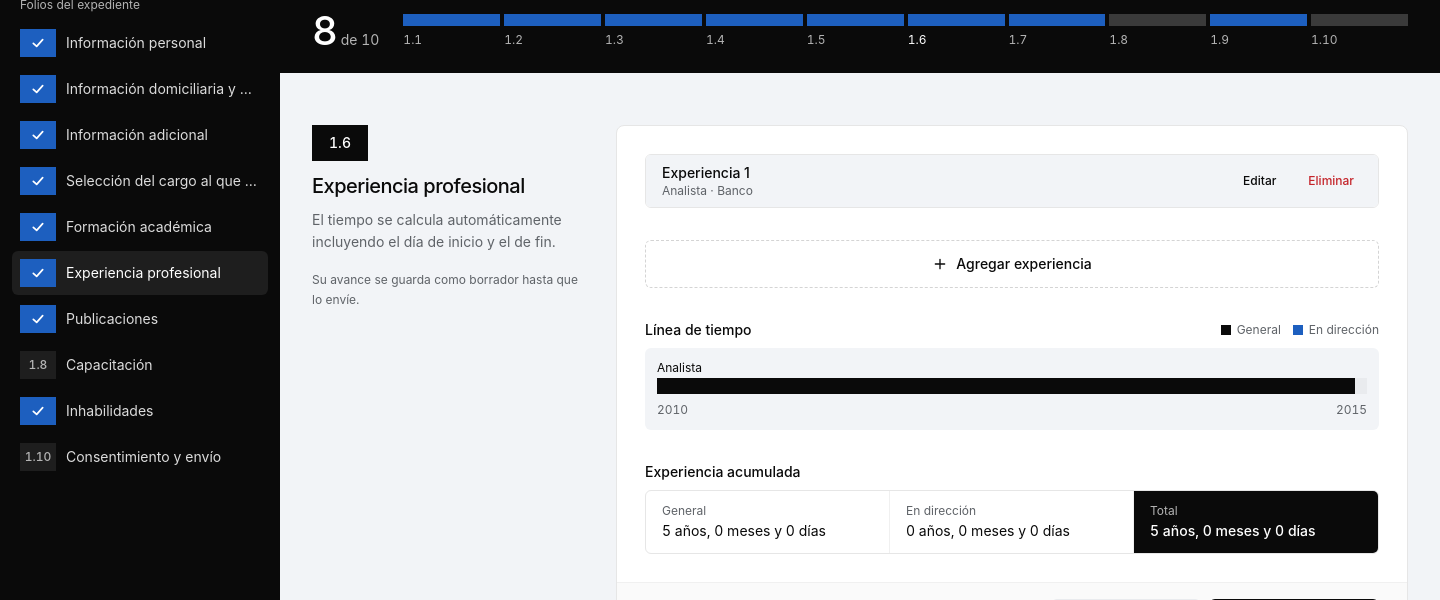
Test: documentos de respaldo › un registro guardado se ve cerrado con Editar y Eliminar, y al editar conserva su PDF
Check: the button with aria-label "Eliminar Experiencia 1" is shown, box [1292,165,1370,197]
Check: the text "Analista · Banco" is shown, box [662,183,753,198]
Click the button with aria-label "Editar Experiencia 1". click: (1260, 181)
box: [1227,165,1292,197]
(page scrolled)
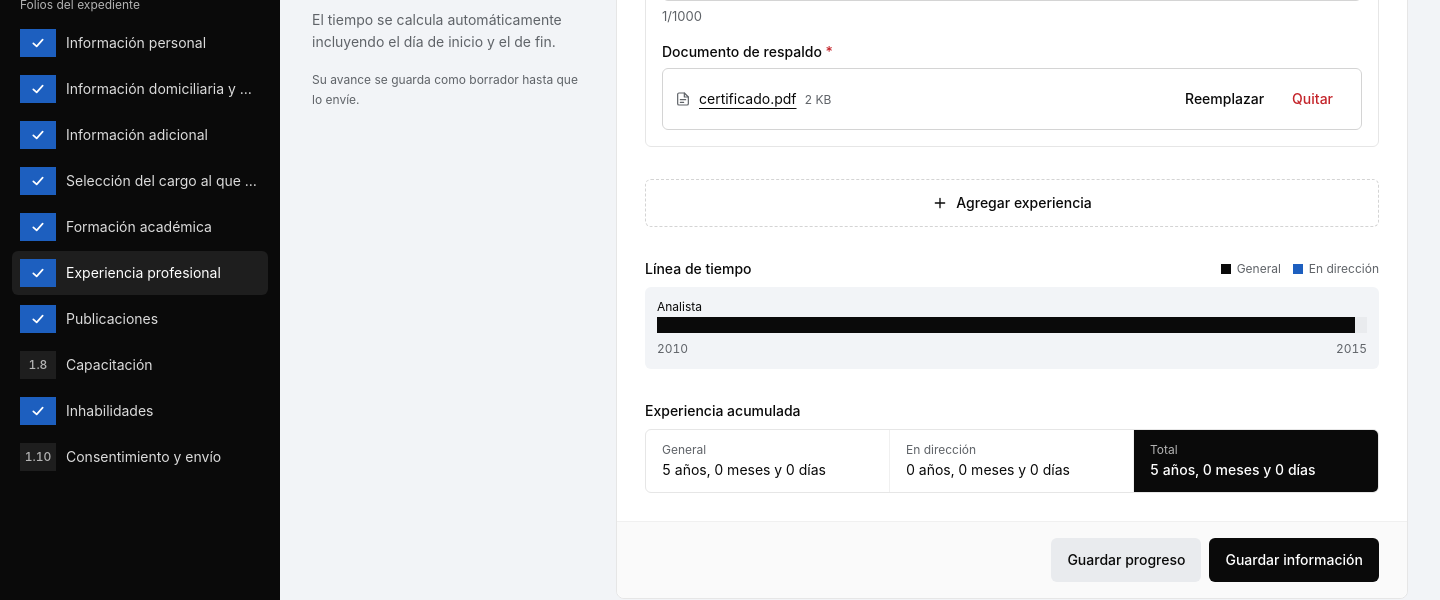
Check: the link "certificado.pdf" is shown, box [699,90,796,107]
Click the button "Guardar progreso". click: (1126, 560)
box: [1051,538,1201,582]
(page scrolled)
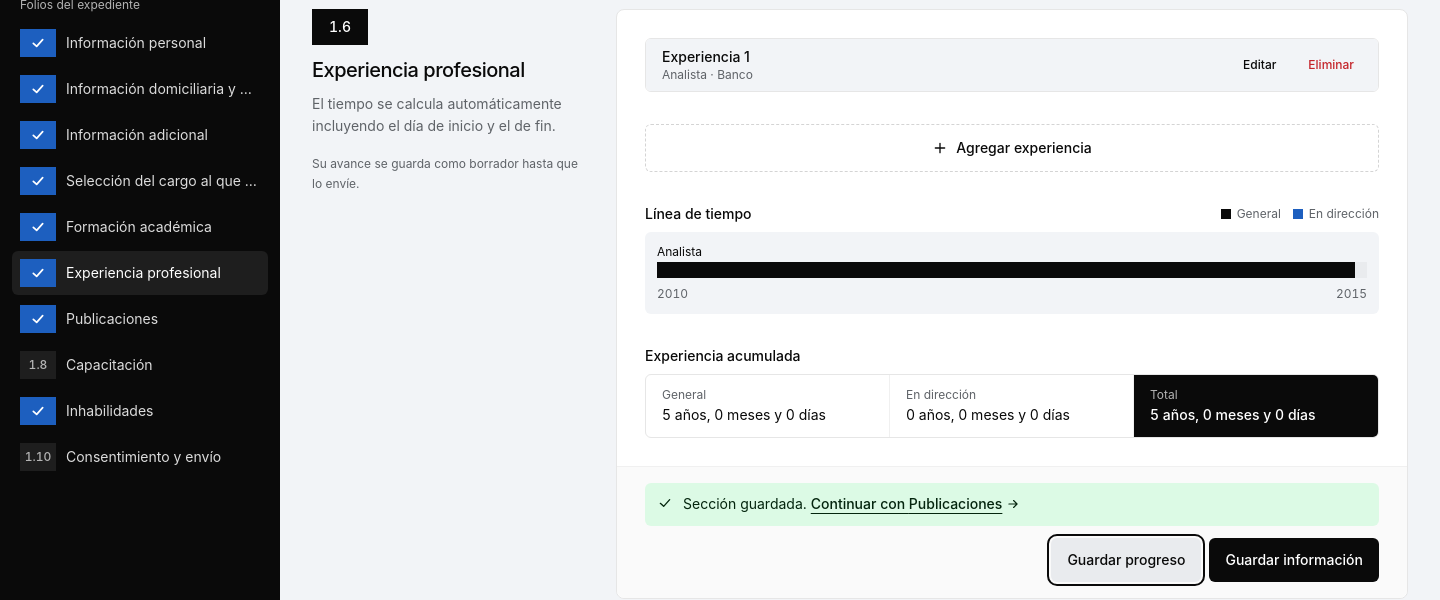
Check: the text "Sección guardada. Continuar con Publicaciones" is shown, box [683,493,1020,516]
Check: the button with aria-label "Editar Experiencia 1" is shown, box [1227,49,1292,81]
